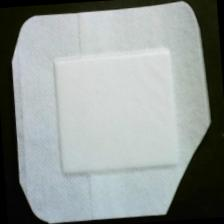Cut: (5, 1, 218, 224)
